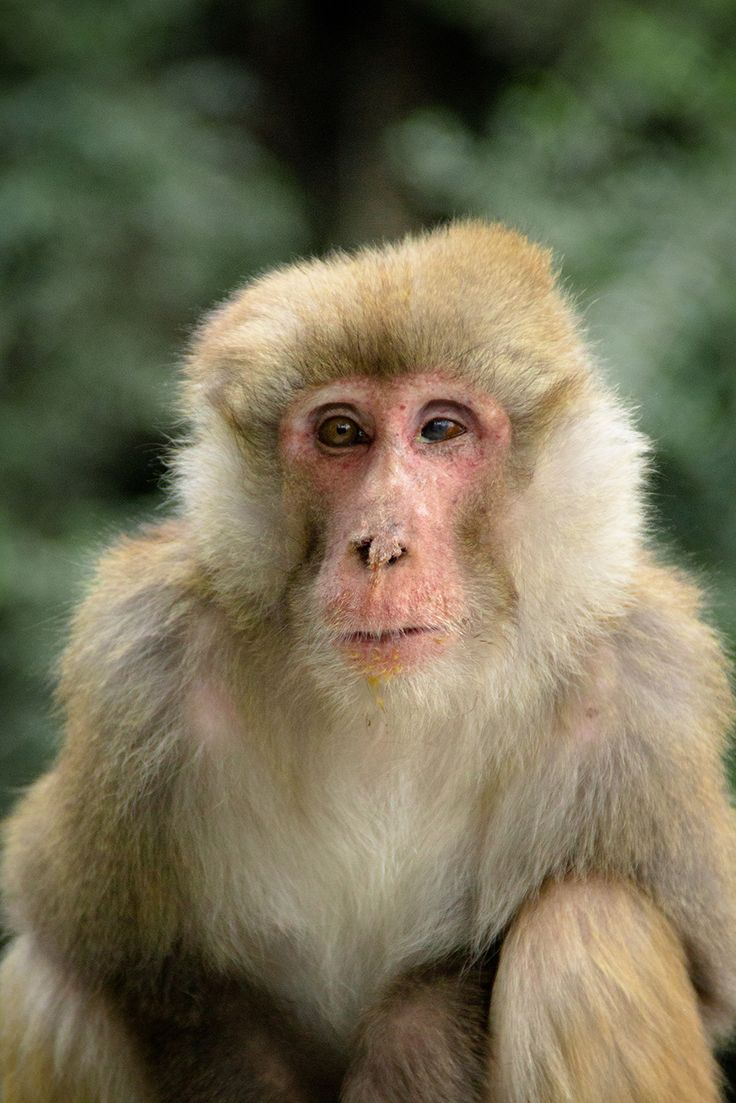monkey: (8, 206, 736, 1103)
